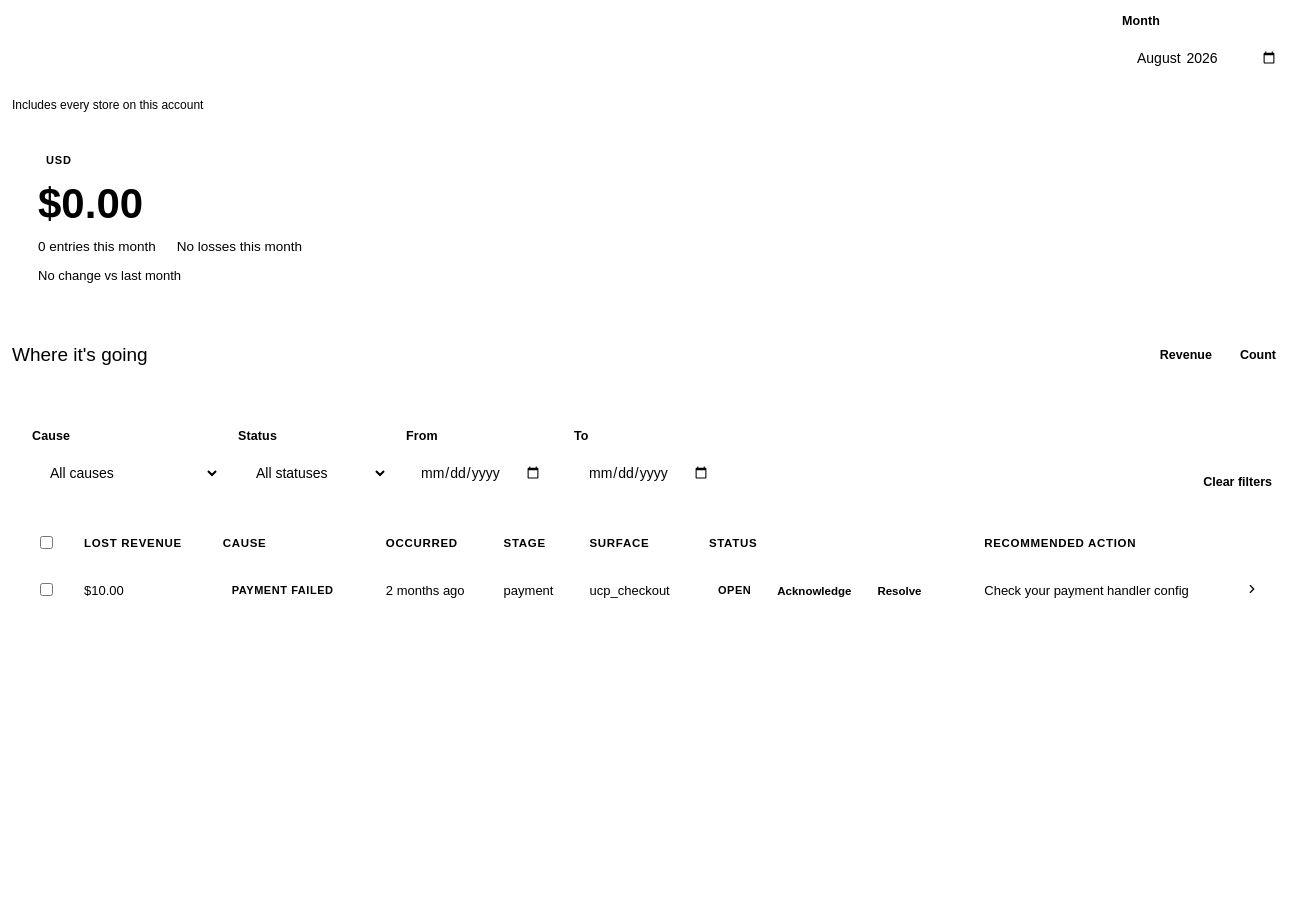
Scenario: LostRevenuePanel — status actions (R14/R15/A4) › acknowledges optimistically and rolls back with a visible error on failure
Click the button with class "status-btn" showing "Acknowledge". click: (814, 591)
box: [768,582,860,600]
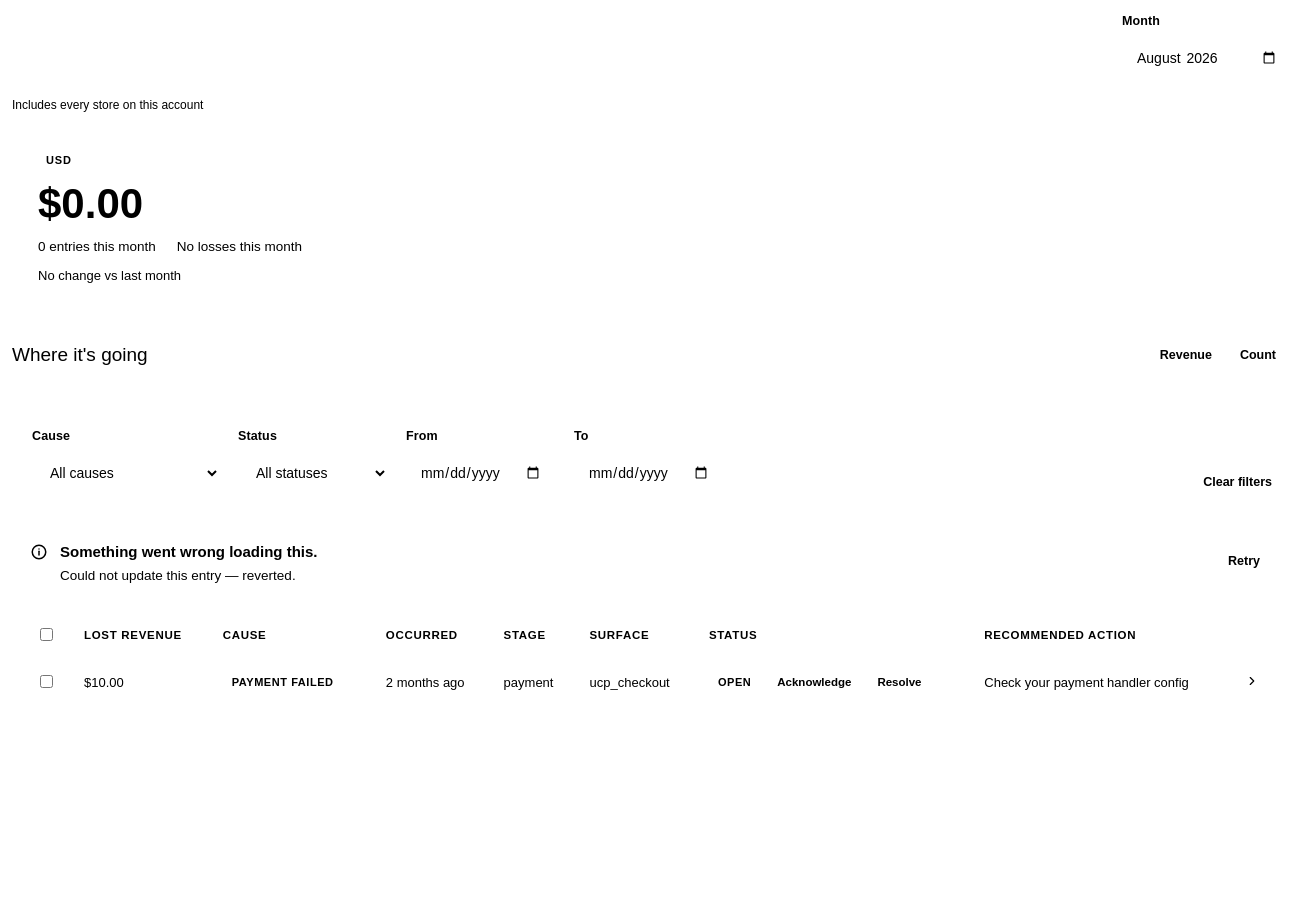
expect the text "Open" is shown: met, box [718,676,751,688]
expect the message with class "err" is shown: met, box [30,541,1274,583]
